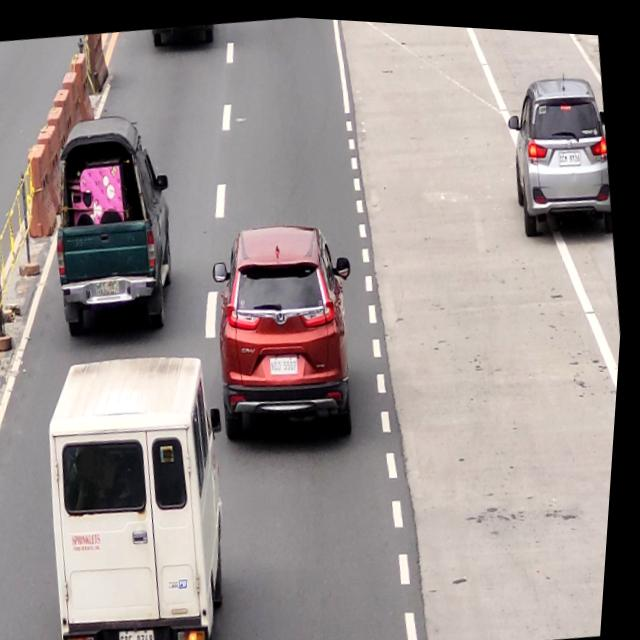Car: (32, 343, 256, 640), (204, 213, 374, 448), (37, 105, 193, 341), (504, 69, 623, 236)
License-Plate: (273, 349, 306, 375), (557, 138, 587, 164), (123, 623, 168, 640), (95, 275, 125, 298)
